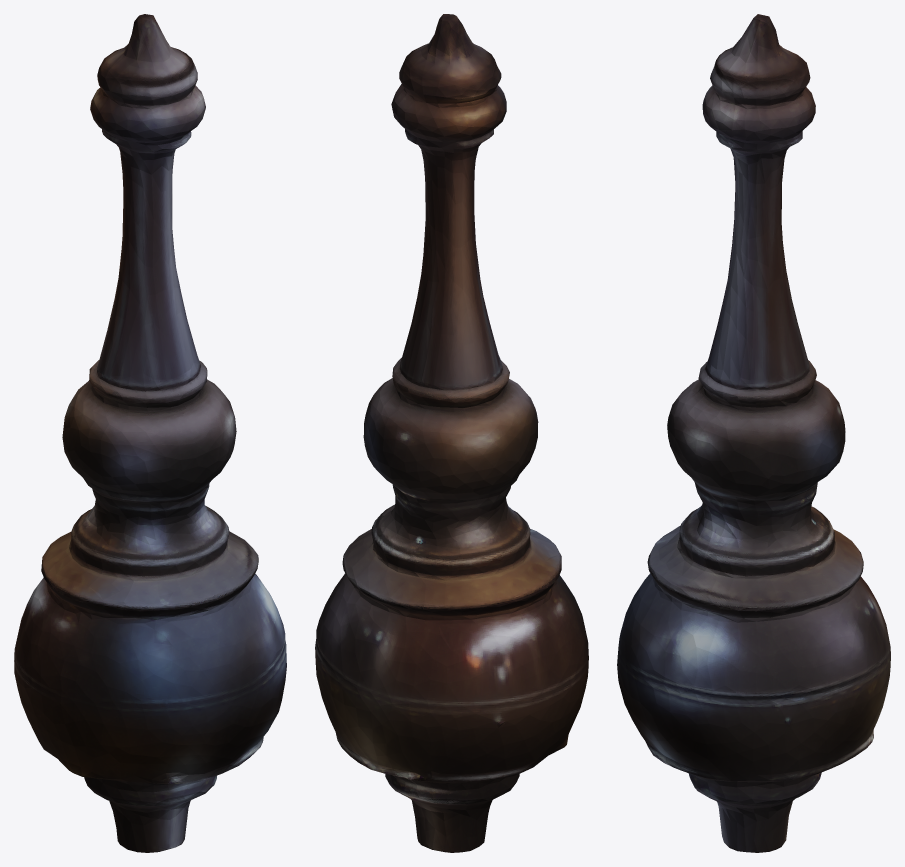
Rendered from 1774411308833-d78fab7a-4ee7-4c5d-a7d9-0b57e086b6a5.glb.
3 renders of one model, left to right at view 1: azimuth 30°, elevation 25°; view 2: azimuth 150°, elevation 25°; view 3: azimuth 270°, elevation 25°, orthographic.
Visible parts, largest first — view 1: world; view 2: world; view 3: world.
Boxes of the visible parts, left/top/right/bottom form: world: left=14, top=14, right=286, bottom=852; world: left=315, top=14, right=588, bottom=852; world: left=617, top=14, right=890, bottom=852.
Size of the model in its own units: 0.3037 by 1 by 0.3022.
Materials: 1 (1 with a texture image).
